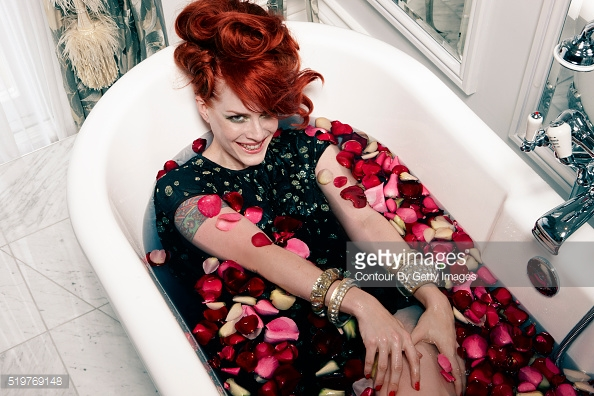deitado: (115, 29, 452, 394)
